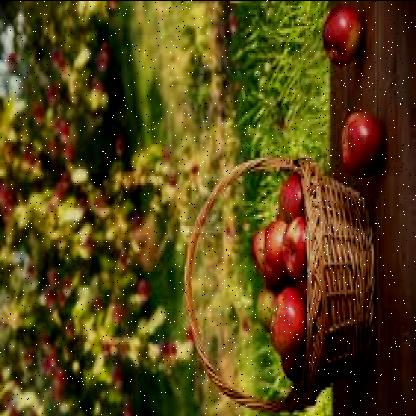apple: (340, 112, 380, 182), (266, 289, 304, 359), (322, 7, 363, 61), (283, 218, 310, 284), (262, 216, 288, 284), (275, 170, 307, 222), (252, 288, 280, 334), (250, 232, 272, 278)
